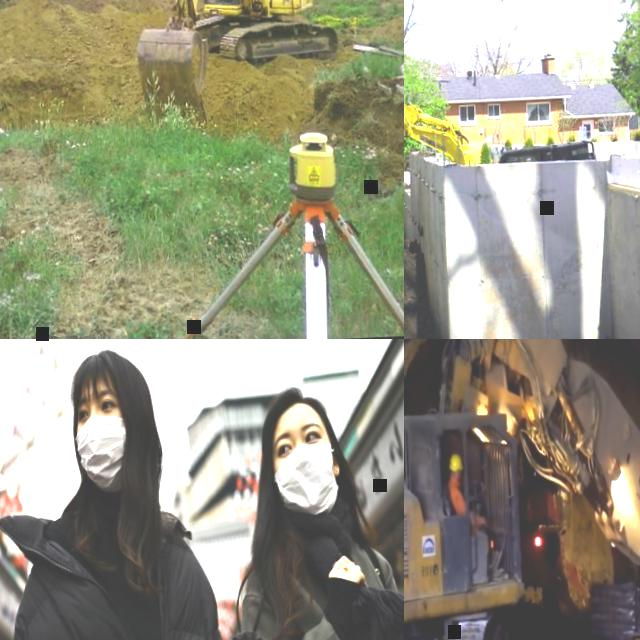helmet: (449, 454, 463, 472)
machinery: (404, 339, 640, 640), (125, 0, 343, 126), (404, 97, 478, 181)
mask: (271, 440, 340, 520), (72, 416, 130, 492)
no_helmet: (72, 349, 158, 398), (260, 393, 327, 438)
no_mask: (457, 474, 461, 481)
no_vest: (46, 521, 233, 640), (246, 523, 404, 640)
person: (0, 339, 294, 640), (228, 375, 404, 640), (446, 450, 494, 570)
vehicle: (498, 140, 596, 168)
vest: (446, 477, 466, 516)
